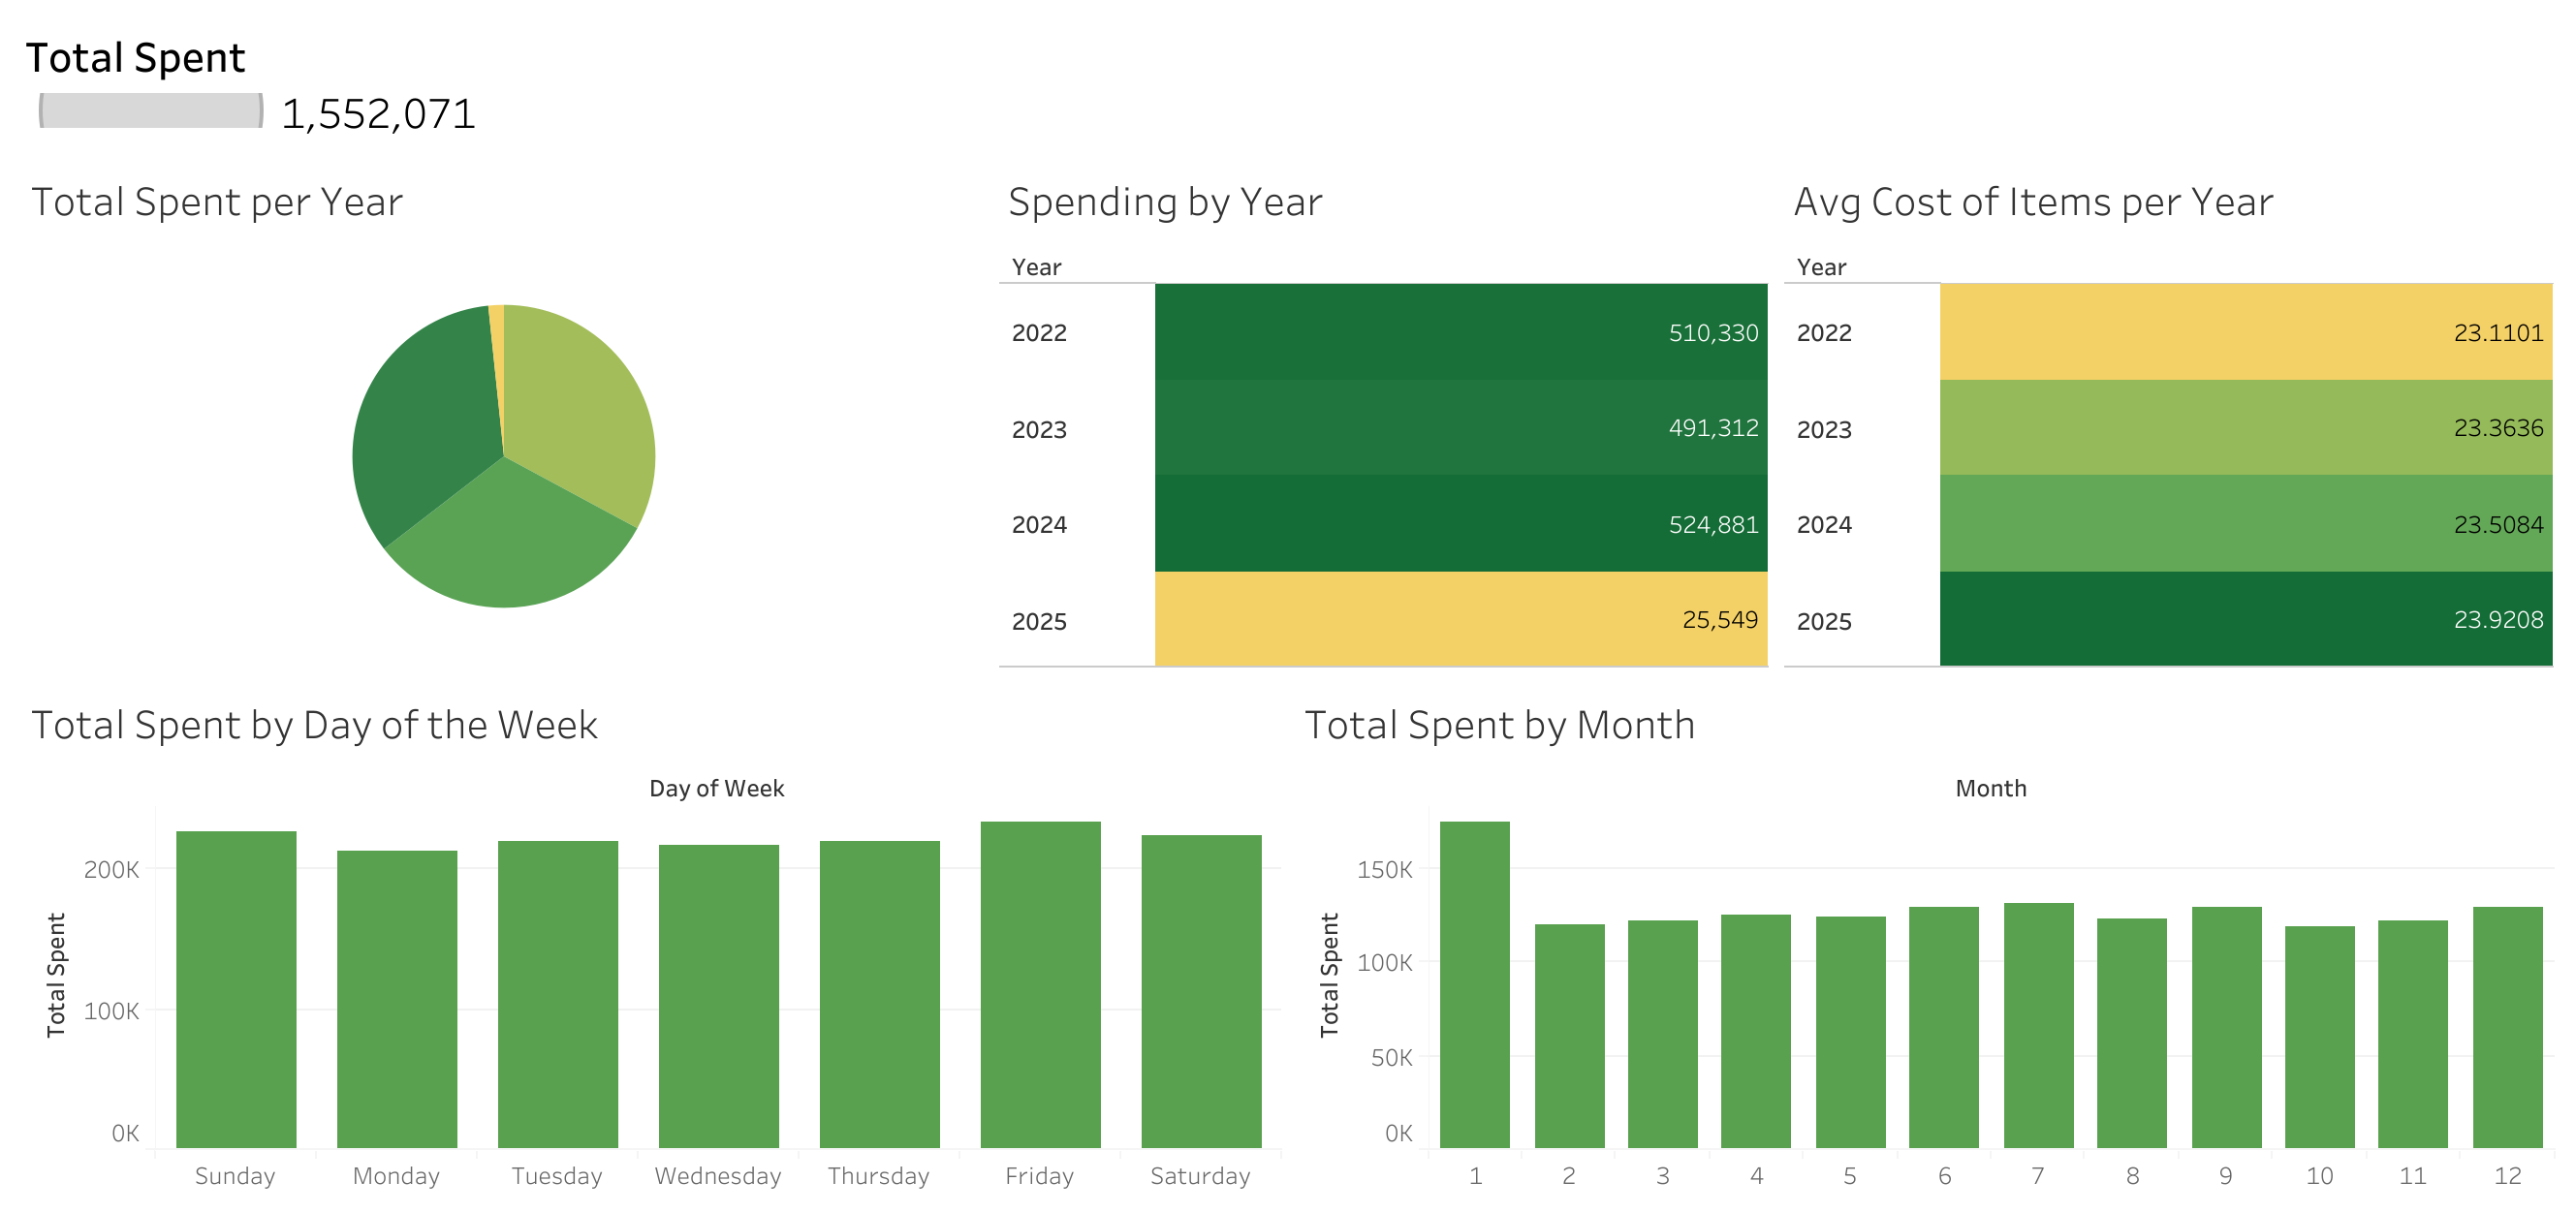

Layout of this report page (visuals, bound fields, positions):
{"tool":"tableau","page":{"name":"Time-Focused Dashboard","canvas":[1000,1000],"units":"permille","ordinal":1},"visuals":[{"type":"legend","title":"Total Spent per Year","param":"[federated.1qt9gdu0cjj4p00zulupw0crysj2].[sum:Total_Spent:qk]","box":[7.2,12.1,985.5,100.9]},{"type":"worksheet","title":"Total Spent per Year","mark":"Pie","box":[7.2,124.8,378,431.6]},{"type":"worksheet","title":"Spending by Year","mark":"Square","rows":["Year"],"box":[385.3,124.8,303.7,431.6]},{"type":"worksheet","title":"Avg Cost of Items per Year","mark":"Square","rows":["Year"],"box":[689,124.8,303.8,431.6]},{"type":"worksheet","title":"Total Spent by Day of the Week","mark":"Automatic","rows":["Total_Spent"],"cols":["Day_of_Week"],"box":[7.2,556.4,492.8,431.6]},{"type":"worksheet","title":"Total Spent by Month","mark":"Bar","rows":["Total_Spent"],"cols":["Month"],"box":[500,556.4,492.8,431.6]}]}

Visuals, with their boxes on the dashboard's canvas, which has no fixed pixel size, in thousandths of its width and height (x1, y1, x2, y2). These are canvas units, not pixel positions in the 2576x1213 screenshot, which may show the page scaled, cropped or inside an application window:
"Total Spent per Year" legend: Rect(7, 12, 993, 113)
"Total Spent per Year" worksheet (Pie marks): Rect(7, 125, 385, 556)
"Spending by Year" worksheet (Square marks): Rect(385, 125, 689, 556)
"Avg Cost of Items per Year" worksheet (Square marks): Rect(689, 125, 993, 556)
"Total Spent by Day of the Week" worksheet: Rect(7, 556, 500, 988)
"Total Spent by Month" worksheet (Bar marks): Rect(500, 556, 993, 988)
